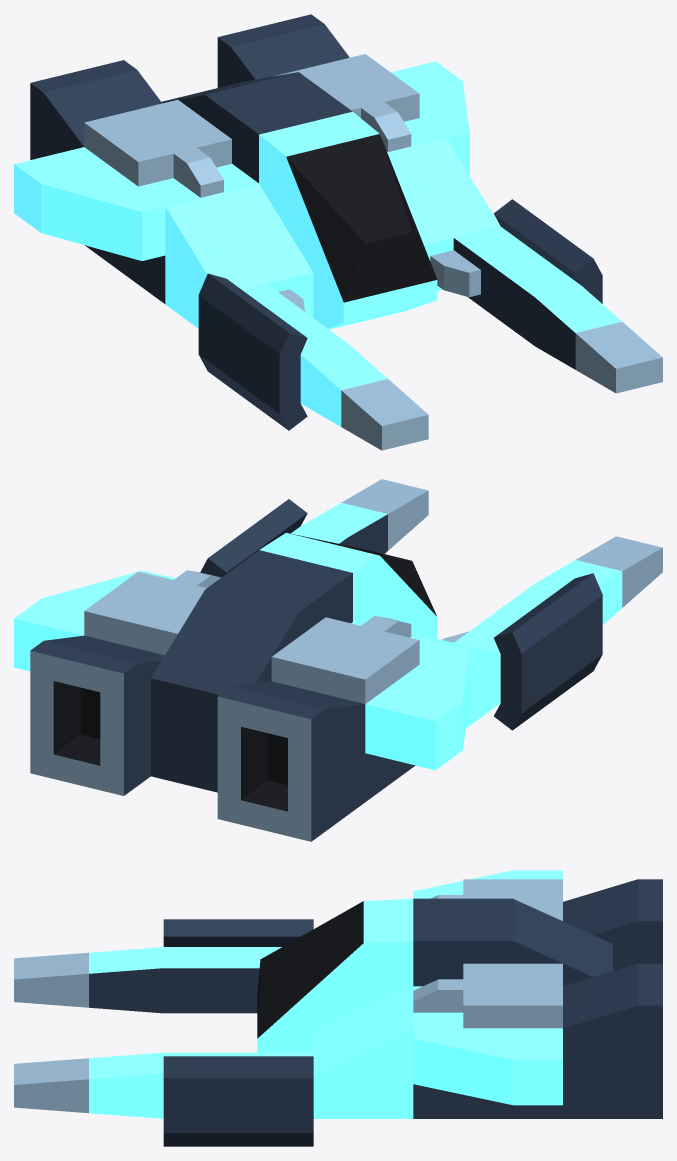
Rendered from shadow.dae.
3 views of the same model, one above another, from view 1: azimuth 30°, elevation 25°; view 2: azimuth 150°, elevation 25°; view 3: azimuth 270°, elevation 25° (orthographic). The views are drawn at different scales.
Parts seen in each view (by area): view 1: craft_miner; view 2: craft_miner; view 3: craft_miner.
Boxes of the visible parts, left/top/right/bottom form: craft_miner: left=14, top=14, right=662, bottom=450; craft_miner: left=14, top=479, right=662, bottom=841; craft_miner: left=14, top=870, right=662, bottom=1146.
Size of the model in its own units: 1.8 by 0.7 by 2.6.
